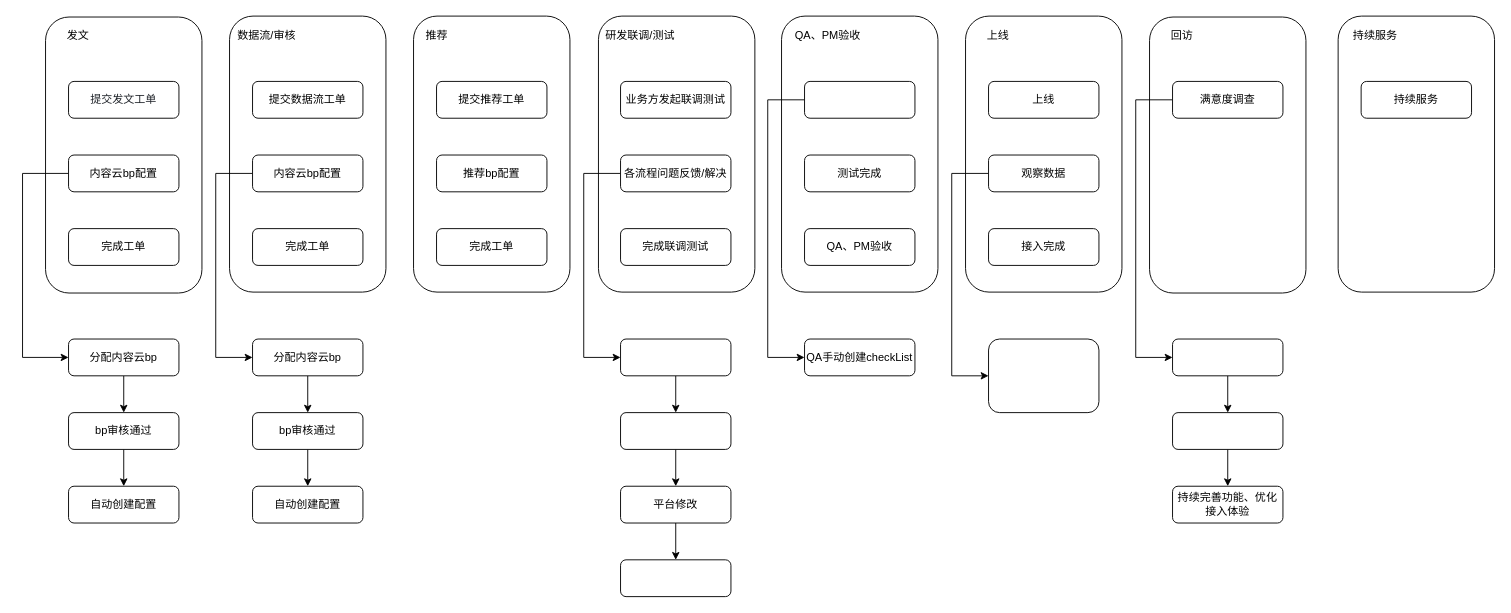
The diagram is 1511 pixels wide and 613 high, and some of its shapes have lost their labels. The box of each missing label's shape, as (x1, y1, x2, y2) in pixels:
QA接入测试: (804, 80, 915, 118)
业务方确认解决: (620, 559, 731, 597)
业务方问题记录: (620, 412, 731, 449)
内容云为业务创建标准看板，业务可在此基础上修改: (988, 338, 1099, 413)
创建标准check list，业务方可增删改: (620, 338, 731, 376)
接入复盘: (1172, 338, 1283, 376)
通用需求、痛点: (1172, 412, 1283, 449)
